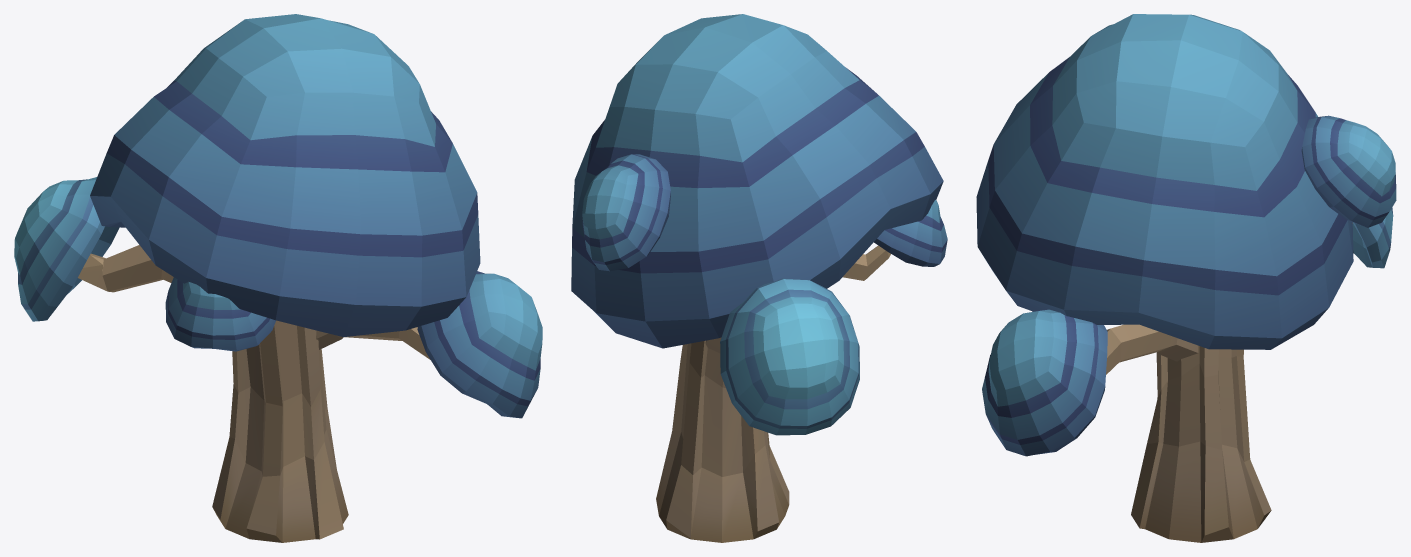
The model's file is Tree_Medium_B.fbx.
3 views of the same model, side by side, from view 1: azimuth 30°, elevation 25°; view 2: azimuth 150°, elevation 25°; view 3: azimuth 270°, elevation 25° (orthographic). The views are drawn at different scales.
Parts seen in each view (by area): view 1: Tree_Medium_B; view 2: Tree_Medium_B; view 3: Tree_Medium_B.
Part boxes in pixels (x1,y1,x2,y2): Tree_Medium_B: [14, 14, 542, 542]; Tree_Medium_B: [571, 14, 947, 542]; Tree_Medium_B: [976, 14, 1396, 542].
Bounding box in the file's own units: 170 × 217 × 169.
